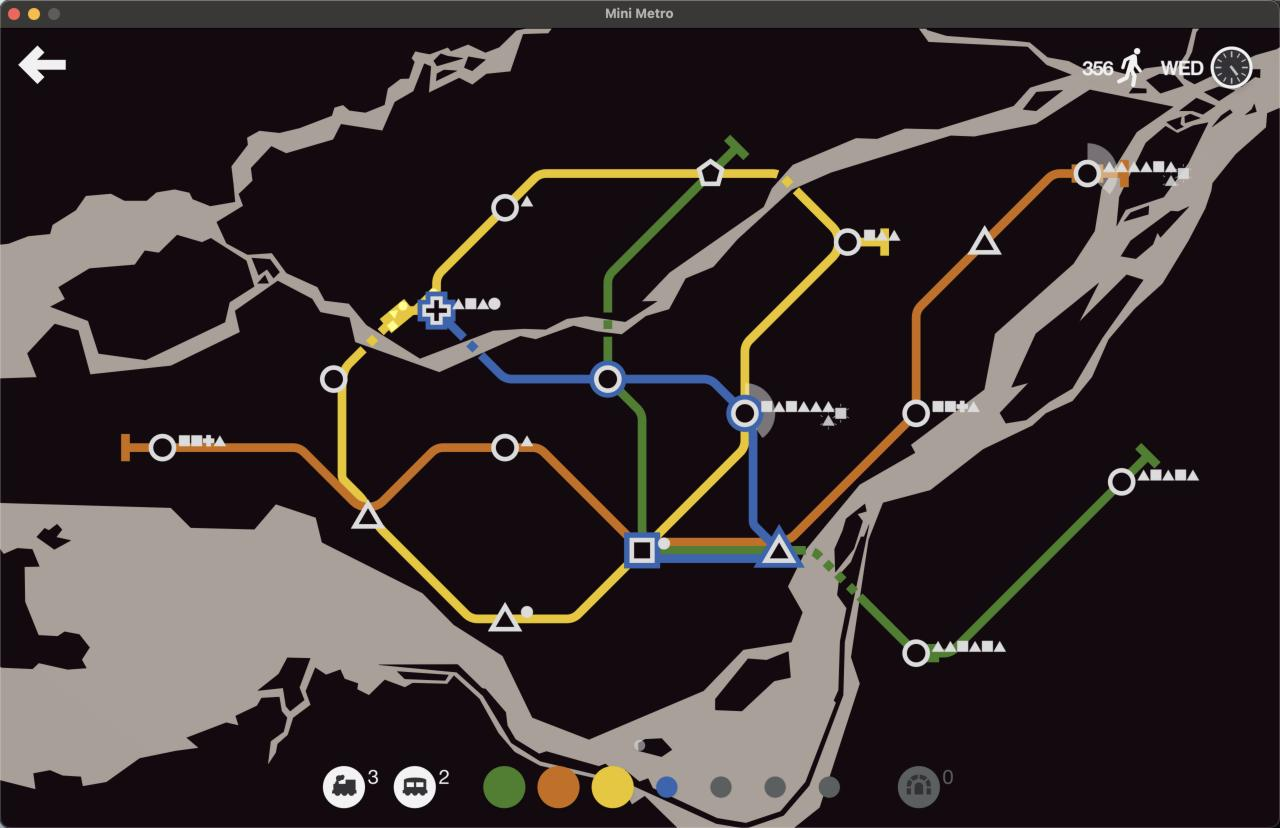CIRCLE: (726, 394, 763, 432), (590, 360, 627, 397), (901, 637, 932, 668), (900, 398, 931, 428), (1072, 158, 1103, 188), (1107, 467, 1137, 497), (490, 193, 520, 222), (833, 227, 862, 257), (491, 432, 520, 462), (319, 364, 348, 393), (148, 433, 177, 462)
CROSS: (418, 290, 458, 334)
PENTAGON: (696, 159, 724, 187)
SQUARE: (622, 530, 663, 569)
TRIANGLE: (756, 526, 804, 570), (967, 224, 1003, 256), (487, 601, 522, 633), (350, 500, 385, 531)
